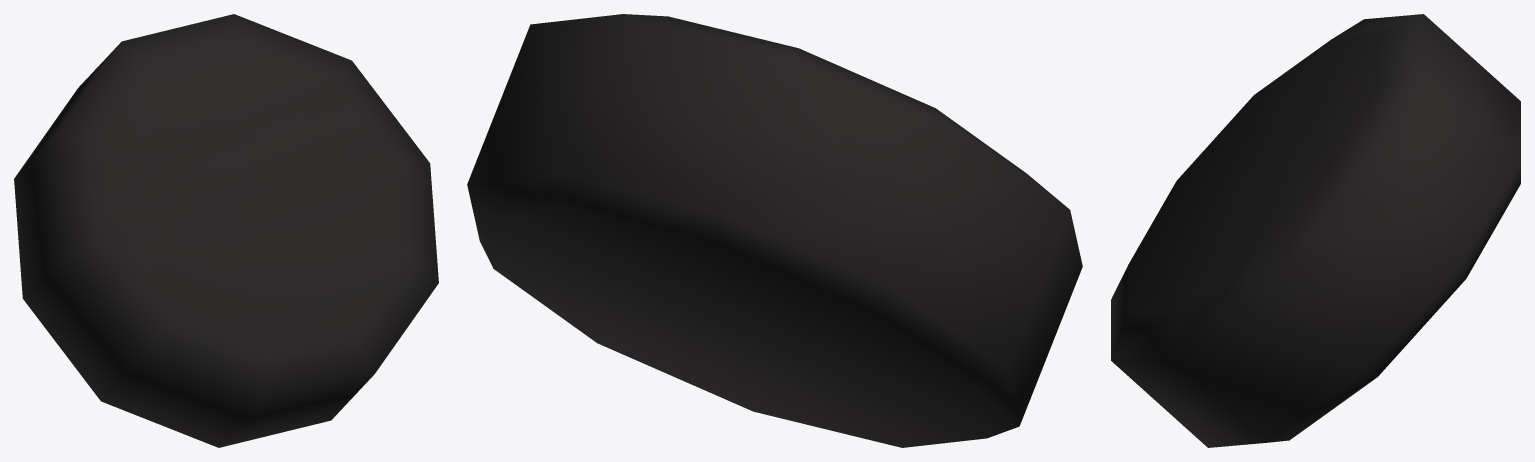
Rendered from Fuel_Canister_Lit_01.fbx.
3 views of the same model, side by side, from view 1: azimuth 30°, elevation 25°; view 2: azimuth 150°, elevation 25°; view 3: azimuth 270°, elevation 25° (orthographic). The views are drawn at different scales.
Visible parts, largest first — view 1: Fuel_Canister_Lit_01; view 2: Fuel_Canister_Lit_01; view 3: Fuel_Canister_Lit_01.
Part boxes in pixels (left/top/right/bottom): Fuel_Canister_Lit_01: left=14, top=14, right=438, bottom=447; Fuel_Canister_Lit_01: left=467, top=14, right=1082, bottom=447; Fuel_Canister_Lit_01: left=1111, top=14, right=1520, bottom=447.
Bounding box in the file's own units: 9.21 × 8.08 × 8.11.
